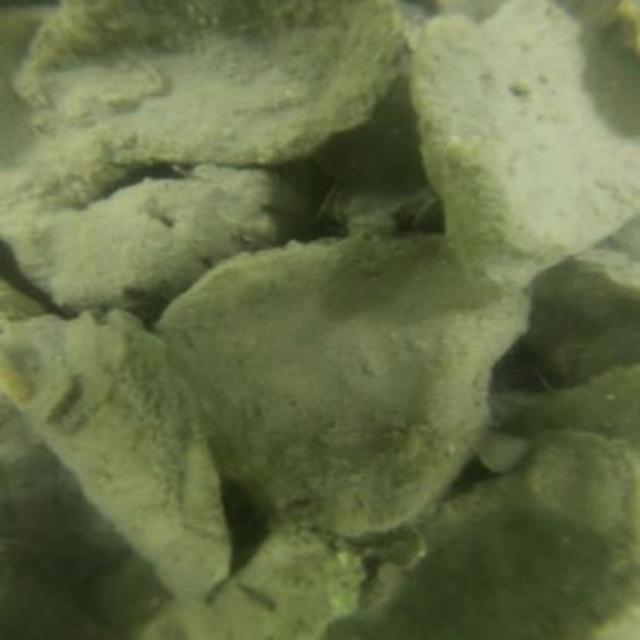Oyster-Closed: (156, 230, 536, 538), (312, 429, 640, 638), (0, 314, 233, 605), (11, 0, 406, 163), (420, 2, 636, 297), (522, 248, 640, 385)
